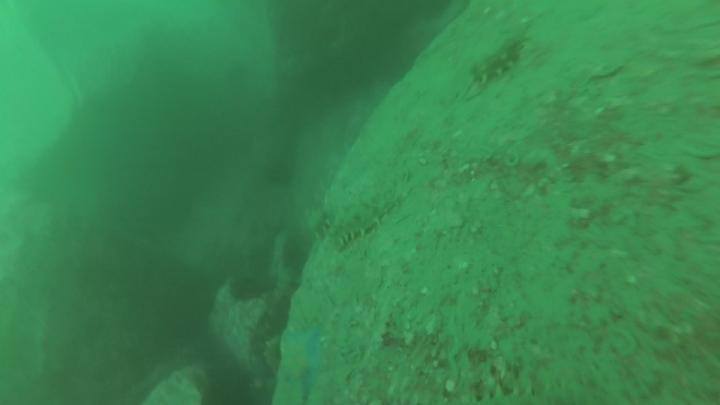echinus: (229, 272, 269, 307), (282, 234, 312, 278), (262, 158, 300, 188)
holothurian: (332, 178, 405, 253), (467, 29, 528, 90), (306, 196, 340, 246)
starfish: (274, 326, 333, 405)
